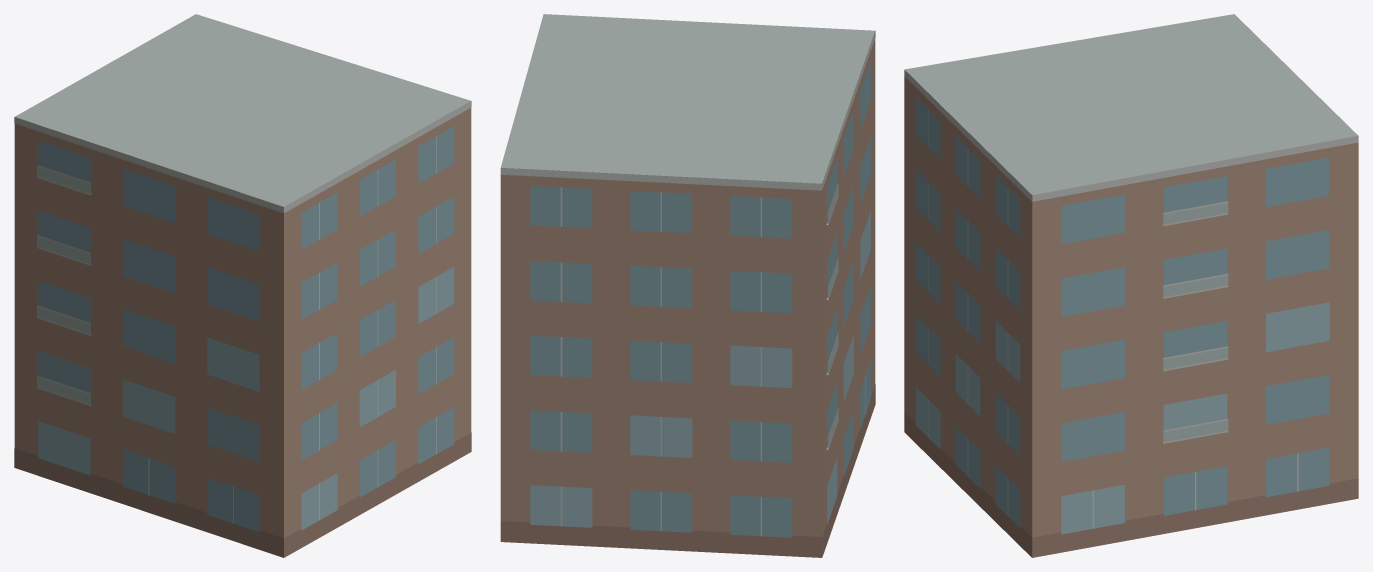
Rendered from survey-upis-32750222.glb.
3 renders of one model, left to right at view 1: azimuth 30°, elevation 25°; view 2: azimuth 150°, elevation 25°; view 3: azimuth 270°, elevation 25°, orthographic. The views are drawn at different scales.
Parts seen in each view (by area): view 1: survey-upis-32750222.tmp; view 2: survey-upis-32750222.tmp; view 3: survey-upis-32750222.tmp.
Boxes of the visible parts, x1,y1,x2,y2 form: survey-upis-32750222.tmp: (14,14,471,557); survey-upis-32750222.tmp: (500,14,875,557); survey-upis-32750222.tmp: (904,14,1358,557).
Size of the model in its own units: 14.23 by 13.28 by 15.08.
